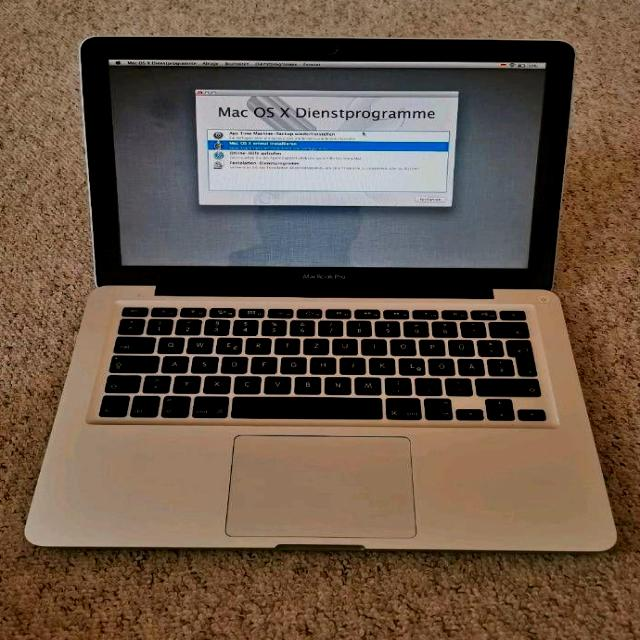0: (401, 319, 427, 335)
1: (144, 316, 171, 332)
2: (173, 316, 199, 334)
3: (202, 316, 228, 334)
4: (231, 317, 256, 333)
5: (259, 317, 284, 333)
6: (287, 318, 313, 334)
7: (316, 318, 341, 334)
8: (343, 318, 369, 334)
9: (372, 319, 398, 335)
a: (159, 353, 187, 371)
accent: (458, 320, 484, 336)
ae: (455, 356, 483, 374)
alt-left: (160, 395, 192, 418)
altgr-right: (421, 396, 451, 419)
b: (291, 374, 319, 393)
c: (231, 374, 259, 392)
caret: (115, 316, 142, 332)
comma: (381, 374, 409, 393)
d: (218, 354, 245, 372)
del: (486, 320, 526, 336)
e: (213, 335, 240, 353)
enter: (502, 337, 534, 375)
f: (248, 354, 275, 372)
g: (278, 354, 305, 372)
h: (307, 354, 334, 372)
hash: (483, 356, 511, 374)
i: (358, 337, 384, 353)
j: (337, 354, 363, 372)
k: (366, 355, 393, 373)
keyboard: (87, 300, 557, 426)
l: (395, 355, 423, 374)
less: (140, 372, 169, 391)
m: (352, 374, 379, 393)
minus: (442, 375, 470, 393)
n: (321, 374, 349, 393)
o: (387, 336, 414, 354)
oe: (425, 356, 452, 374)
p: (417, 337, 443, 353)
plus: (474, 337, 501, 355)
point: (412, 375, 440, 393)
q: (154, 334, 182, 352)
r: (242, 335, 269, 353)
s: (188, 354, 215, 372)
shift-left: (101, 372, 138, 391)
shift-lock: (107, 353, 157, 371)
shift-right: (472, 376, 538, 395)
space: (229, 394, 383, 420)
ss: (430, 319, 455, 335)
strg-left: (129, 394, 159, 418)
t: (271, 335, 297, 353)
tab: (111, 333, 153, 351)
u: (330, 336, 356, 354)
ue: (445, 337, 472, 355)
v: (261, 373, 290, 392)
w: (184, 334, 211, 352)
x: (201, 373, 229, 392)
y: (170, 373, 199, 391)
z: (301, 335, 327, 353)
